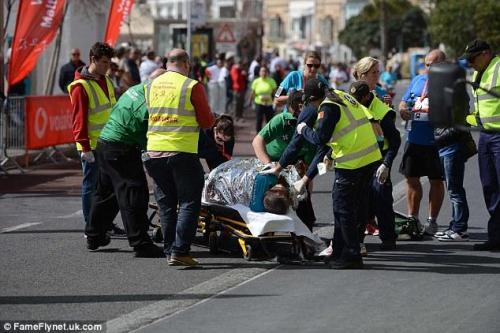10+: (56, 24, 500, 274)
down: (217, 151, 306, 213)
